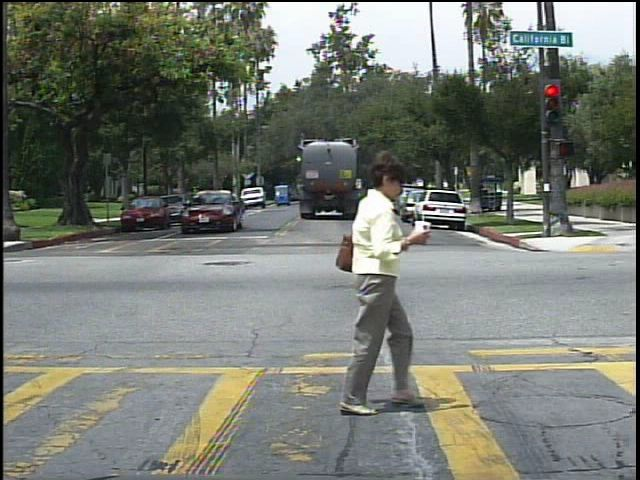person: (314, 150, 434, 422), (515, 180, 528, 199)
